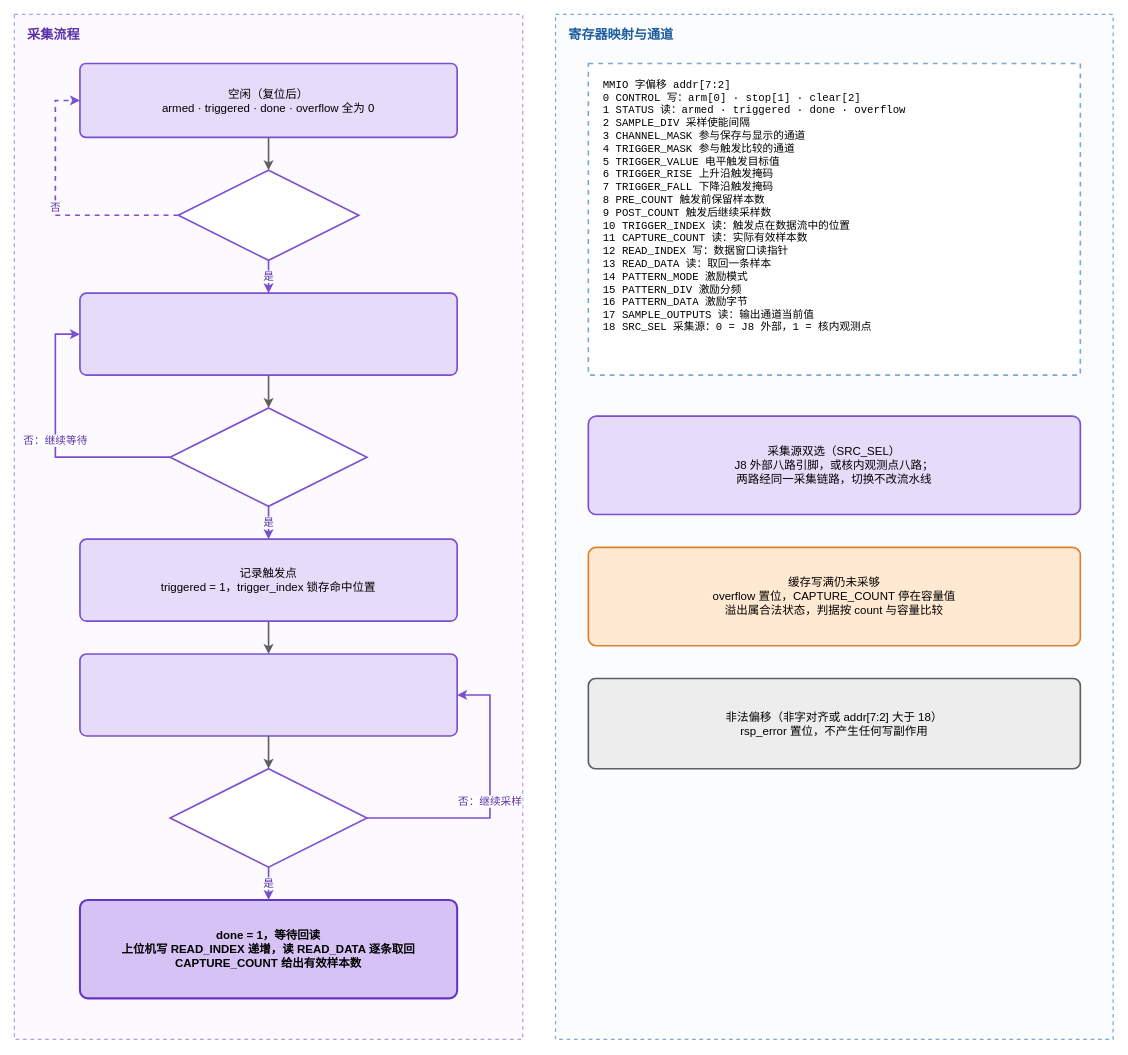
Image size: 1128x1055. Some labels were removed from this diagram. Here are the shapes that lost their labels. From the top down, the centre of each, then its label:
At (x=268, y=215): "CONTROL.arm ?".
At (x=268, y=334): "进入 ARMED，按 SAMPLE_DIV 推进采样节拍 armed = 1，等待触发".
At (x=268, y=457): "触发条件命中 ?".
At (x=268, y=694): "按通道掩码采样写入缓存 CHANNEL_MASK 选有效通道，深度 2048 样本".
At (x=268, y=818): "采够 POST_COUNT ?".
